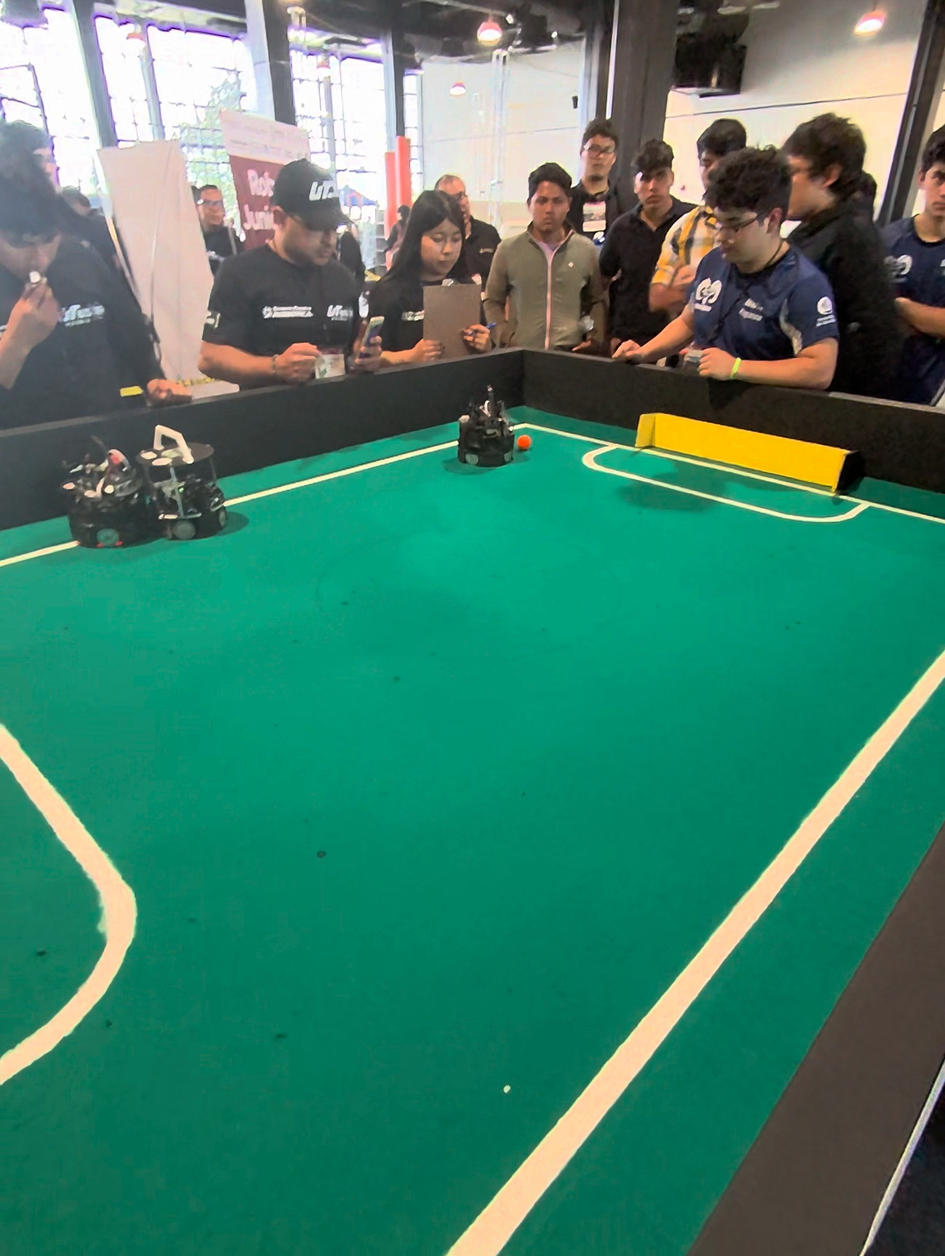Robot: (64, 440, 146, 563), (157, 418, 236, 543), (455, 382, 522, 474)
pelota: (519, 433, 533, 449)
